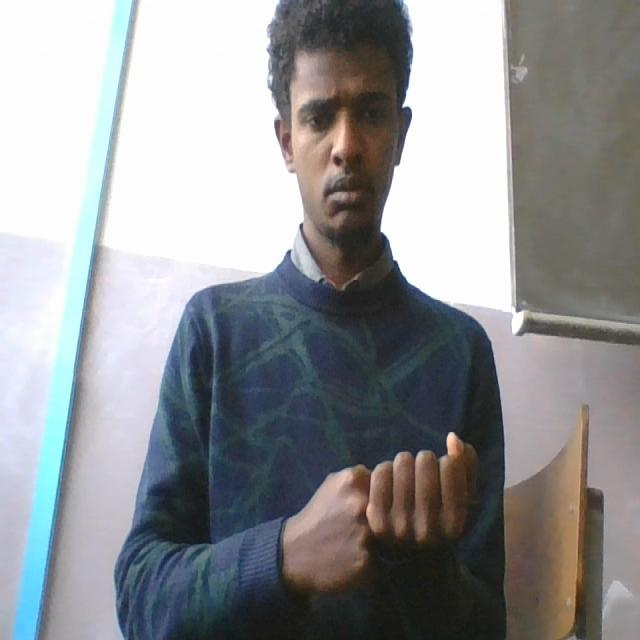beg: (274, 428, 486, 608)
